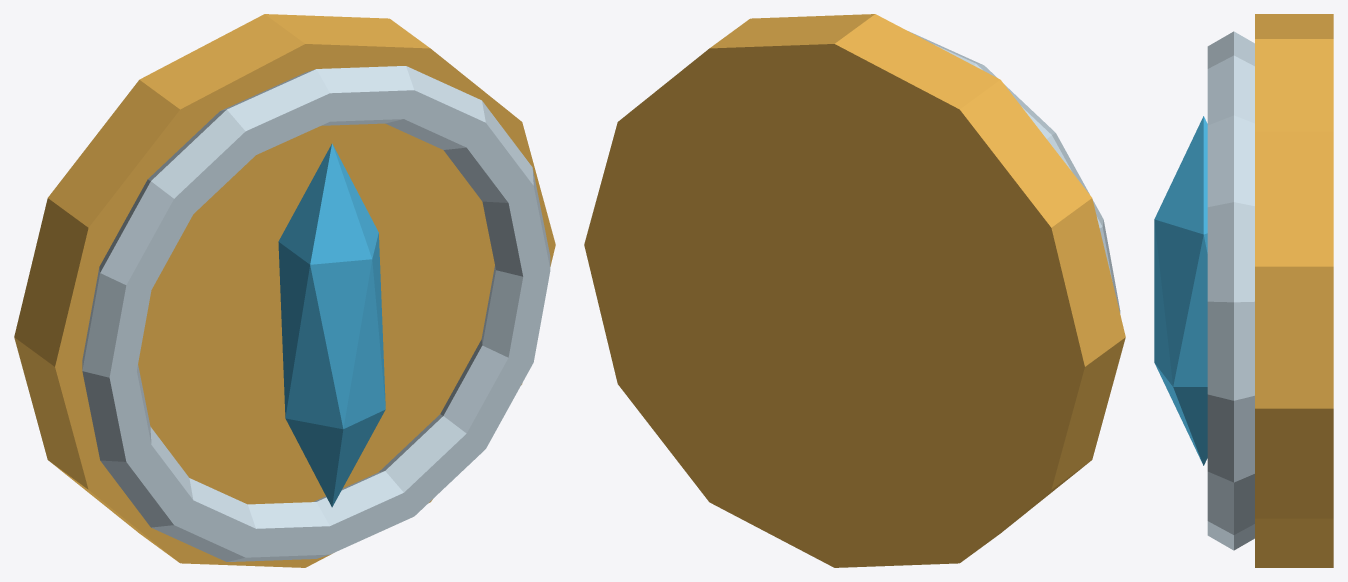
The model's file is survey-compass-1.glb.
The picture shows the model from 3 angles, left to right: view 1: azimuth 30°, elevation 25°; view 2: azimuth 150°, elevation 25°; view 3: azimuth 270°, elevation 25°; orthographic projection. The views are drawn at different scales.
Visible parts, largest first — view 1: Cylinder, Torus.003, Icosphere; view 2: Cylinder, Torus.003; view 3: Cylinder, Torus.003, Icosphere.
Boxes of the visible parts, left/top/right/bottom form: Cylinder: left=14, top=14, right=555, bottom=567; Torus.003: left=82, top=66, right=550, bottom=561; Icosphere: left=278, top=143, right=385, bottom=507; Cylinder: left=584, top=14, right=1125, bottom=567; Torus.003: left=908, top=31, right=1120, bottom=313; Cylinder: left=1255, top=14, right=1333, bottom=567; Torus.003: left=1207, top=31, right=1254, bottom=550; Icosphere: left=1154, top=116, right=1207, bottom=465.
Size of the model in its own units: 0.46 by 0.46 by 0.1483.
